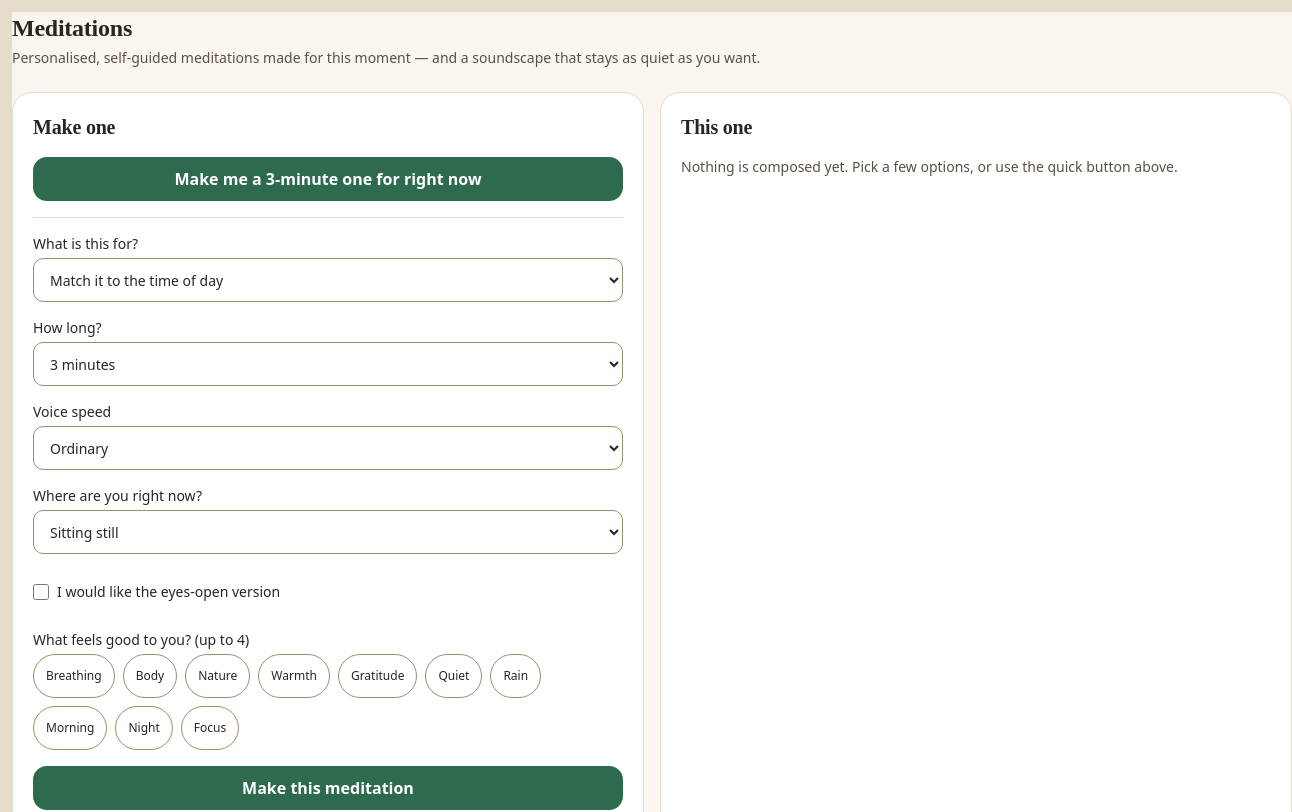
MeditationView › voice-only playback does not start the soundscape engine
The width and height of the screenshot is (1292, 812).
Step 1. Click the button "Make me a 3-minute one for right now" → (328, 179), box 33,157 -> 623,201
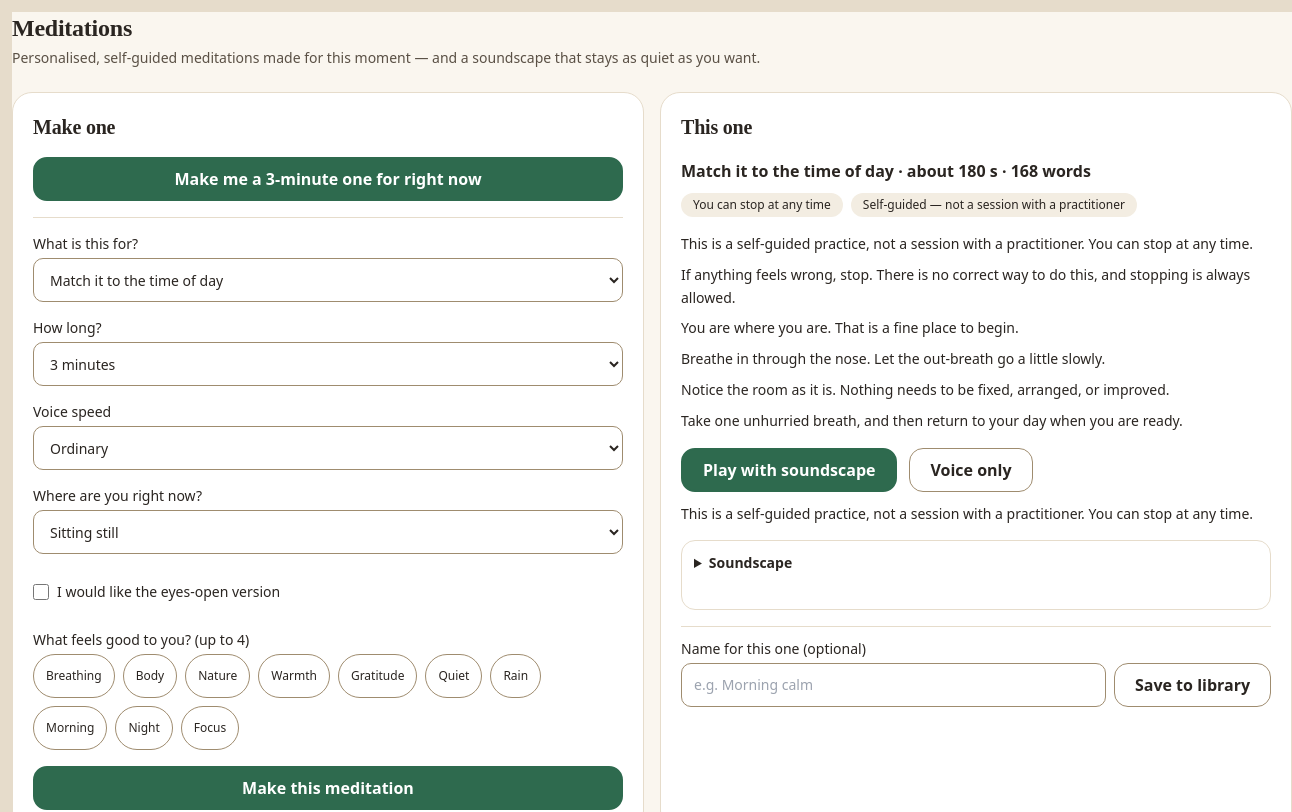
Result: the text with test id "section-preface" is shown at 681,233 -> 1271,256
Step 2. Click the button with test id "play-voice" → (971, 470), box 910,448 -> 1033,492
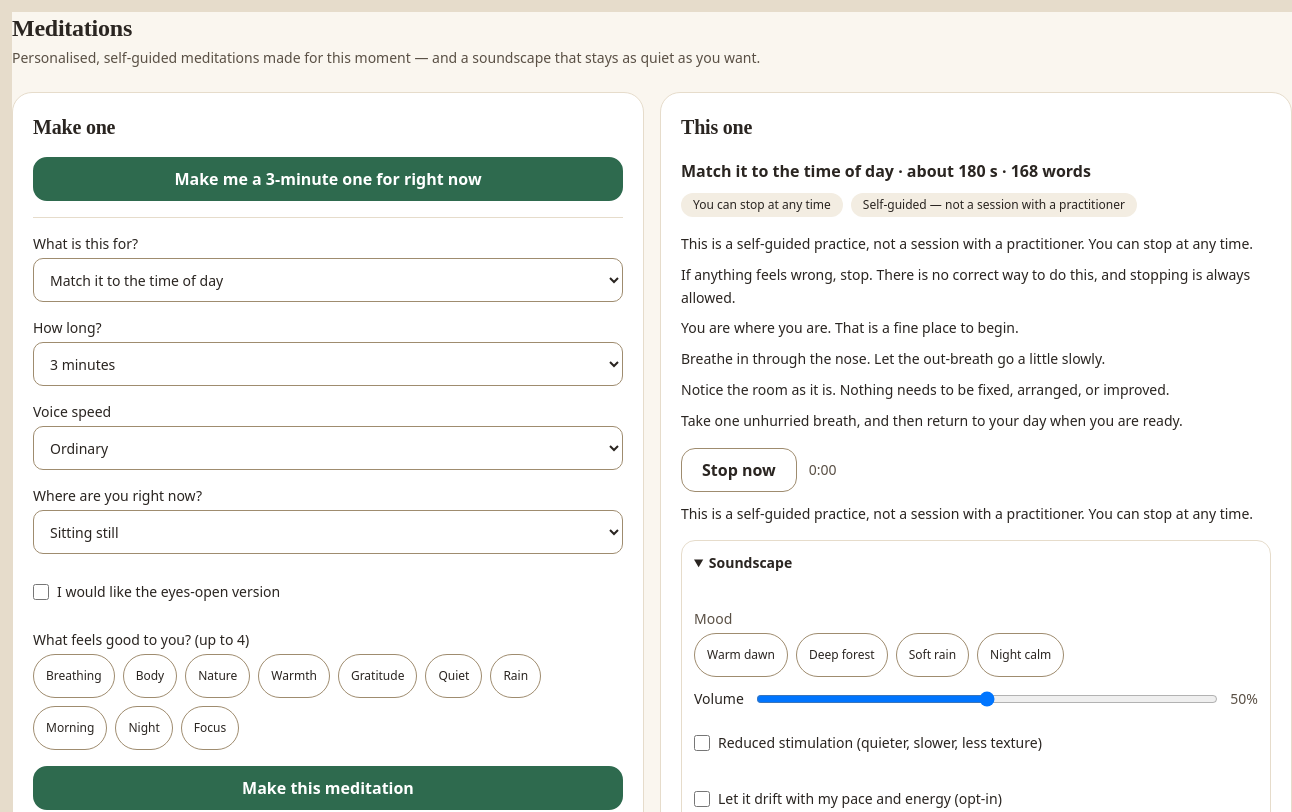
Result: the button with test id "stop-now" is shown
// The stop control works in voice-only mode too.
Step 3. Click the button with test id "stop-now" → (739, 470), box 681,448 -> 797,492
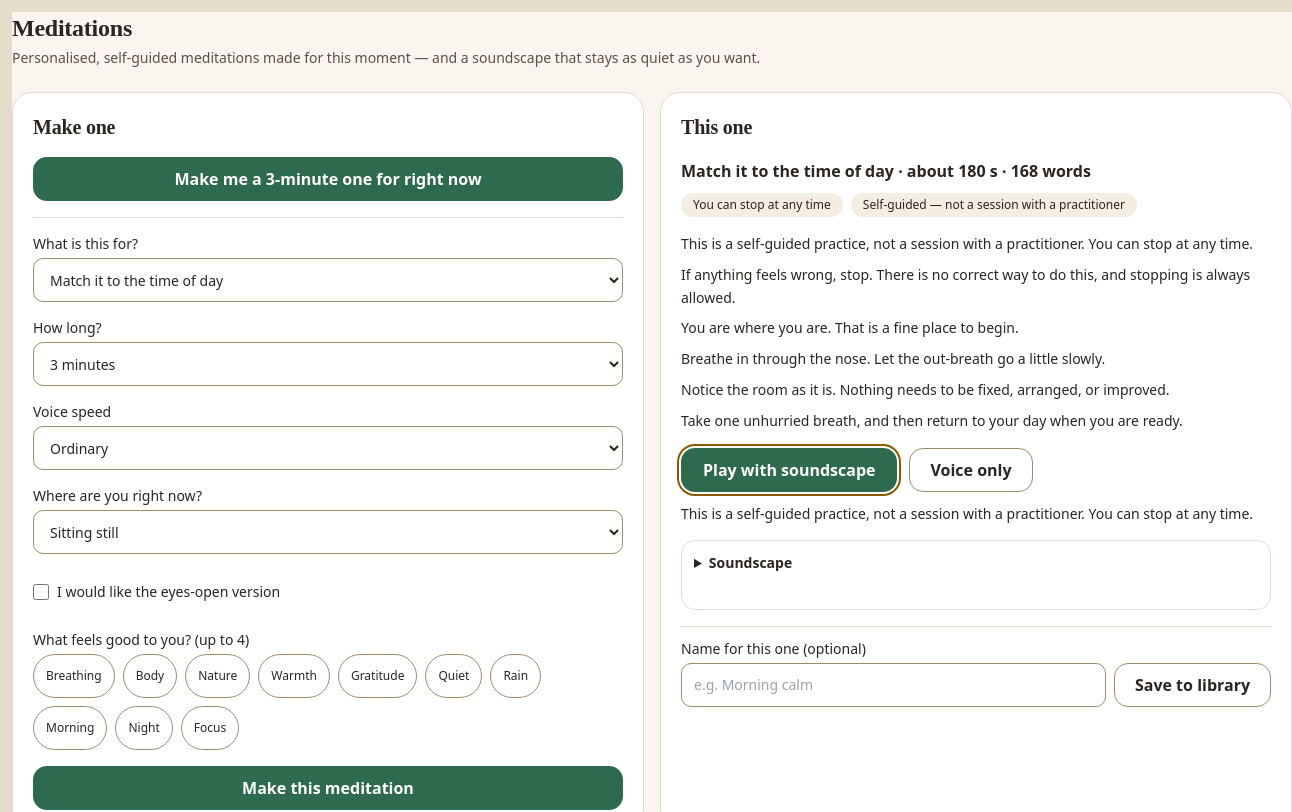
Result: the button with test id "play-voice" is shown at 910,448 -> 1033,492
